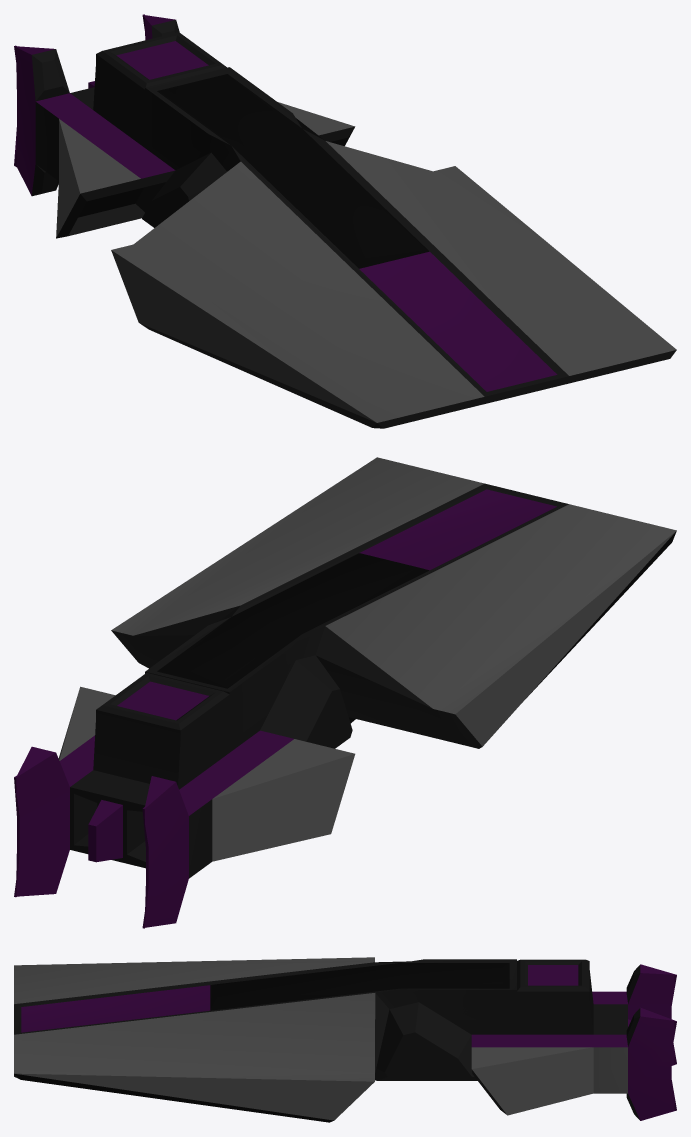
Rendered from Small_Hull_2.FBX.
3 views of the same model, one above another, from view 1: azimuth 30°, elevation 25°; view 2: azimuth 150°, elevation 25°; view 3: azimuth 270°, elevation 25° (orthographic). The views are drawn at different scales.
Visible parts, largest first — view 1: Small Fighter Hull002; view 2: Small Fighter Hull002; view 3: Small Fighter Hull002.
Part boxes in pixels (x1,y1,x2,y2): Small Fighter Hull002: (14,14,676,428); Small Fighter Hull002: (14,457,676,928); Small Fighter Hull002: (14,957,676,1122).
Size of the model in its own units: 47.98 by 108 by 21.9.
